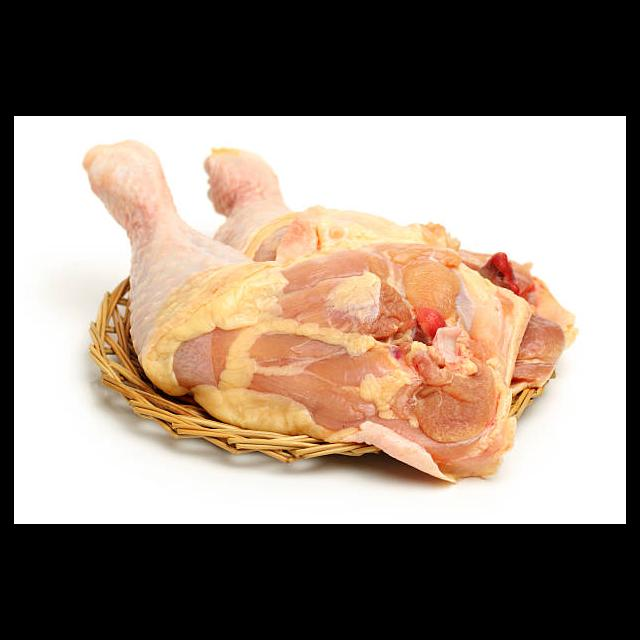chicken: (82, 138, 581, 480)
